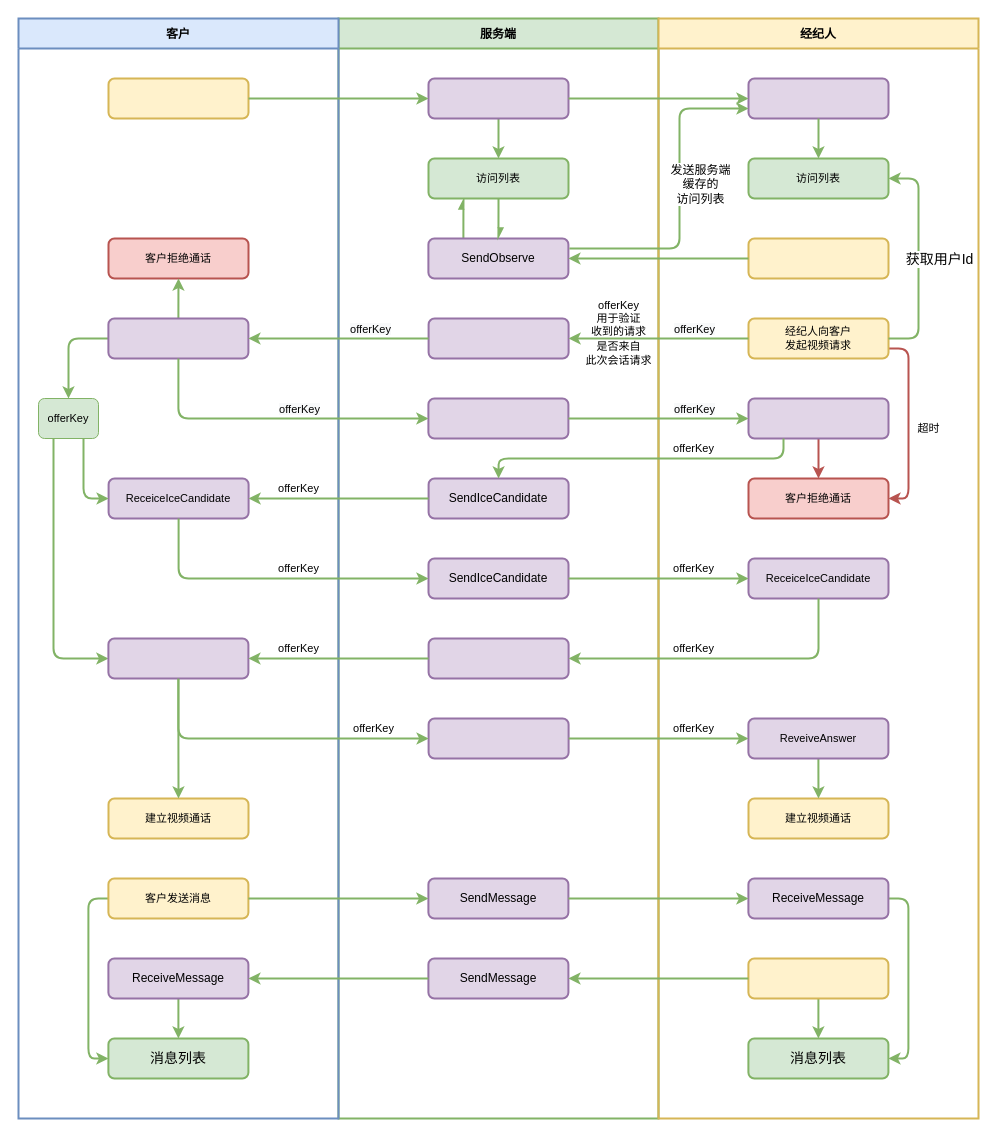
Image size: 996x1136. Some labels were removed from this diagram. The centre of each missing label's shape, as x and y in pixels:
"ReceiveOffer" belongs at (178,658).
"ReceivePreanswer" belongs at (818,418).
"ReceivePreoffer" belongs at (178,338).
"ReceiveVisit" belongs at (818,98).
"SendAnswer" belongs at (498,738).
"SendOffer" belongs at (498,658).
"SendPreanswer" belongs at (498,418).
"SendPreoffer" belongs at (498,338).
"SendVisit" belongs at (498,98).
"客户访问项目" belongs at (178,98).
"经纪人发送消息" belongs at (818,978).
"经纪人查看项目" belongs at (818,258).
